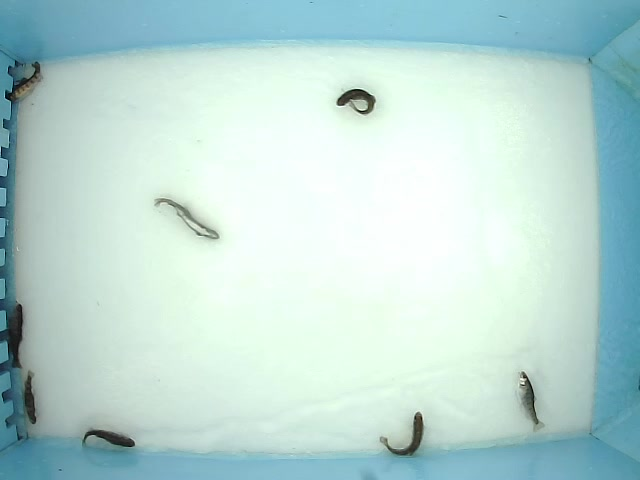fish: (152, 196, 224, 240), (377, 410, 426, 458), (515, 372, 550, 433), (78, 427, 142, 452), (333, 85, 376, 118), (6, 300, 23, 371), (22, 367, 40, 427)
